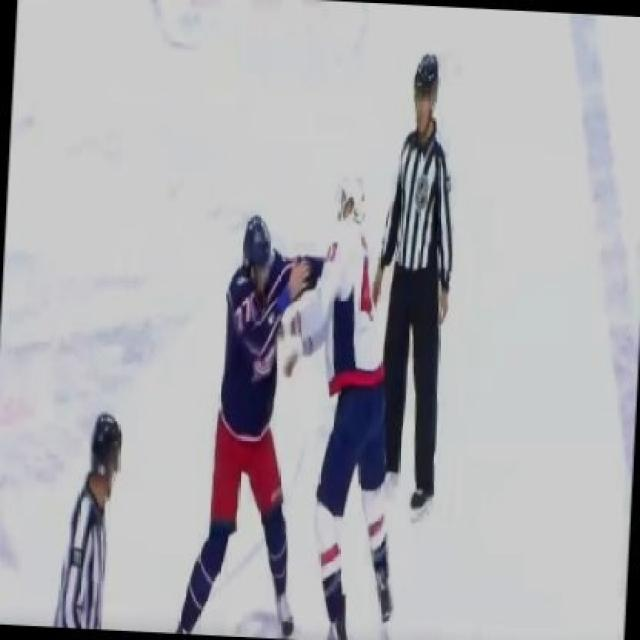fight: (176, 189, 428, 636)
non-fight: (348, 47, 475, 510), (37, 404, 137, 634)
